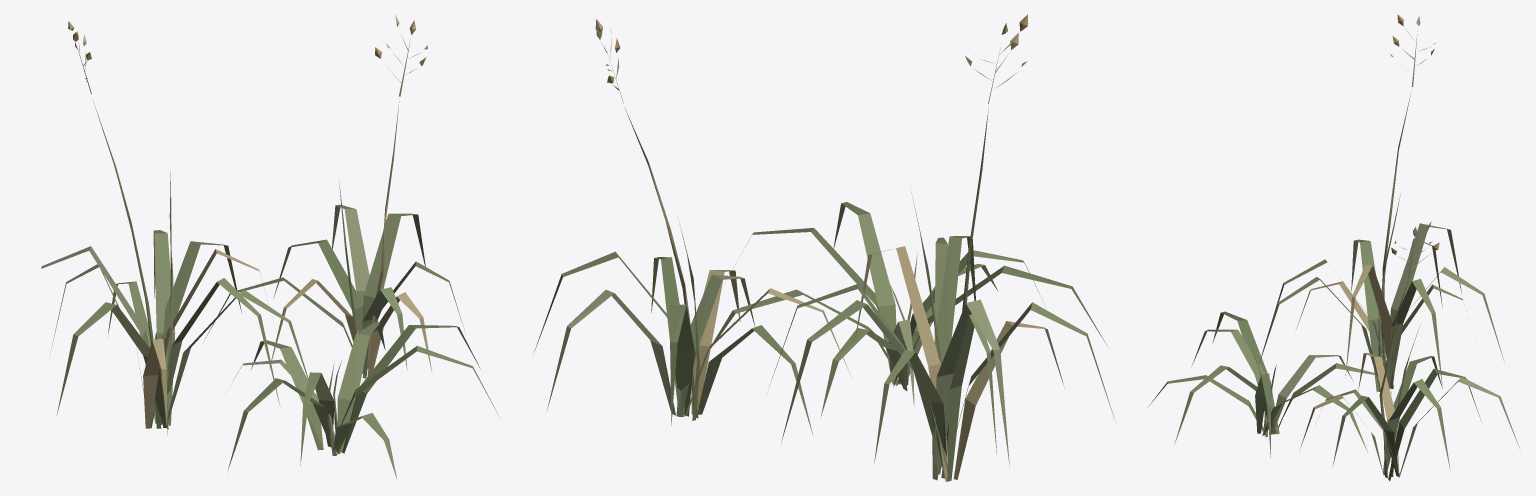
The picture shows the model from 3 angles, left to right: view 1: azimuth 30°, elevation 25°; view 2: azimuth 150°, elevation 25°; view 3: azimuth 270°, elevation 25°; orthographic projection. The views are drawn at different scales.
Visible parts, largest first — view 1: w01b-lod; view 2: w01b-lod; view 3: w01b-lod.
Part boxes in pixels (x1,y1,x2,y2): w01b-lod: (41,14,500,479); w01b-lod: (534,14,1114,481); w01b-lod: (1147,14,1519,481).
Bounding box in the file's own units: 1.11 × 1.02 × 0.9978.
